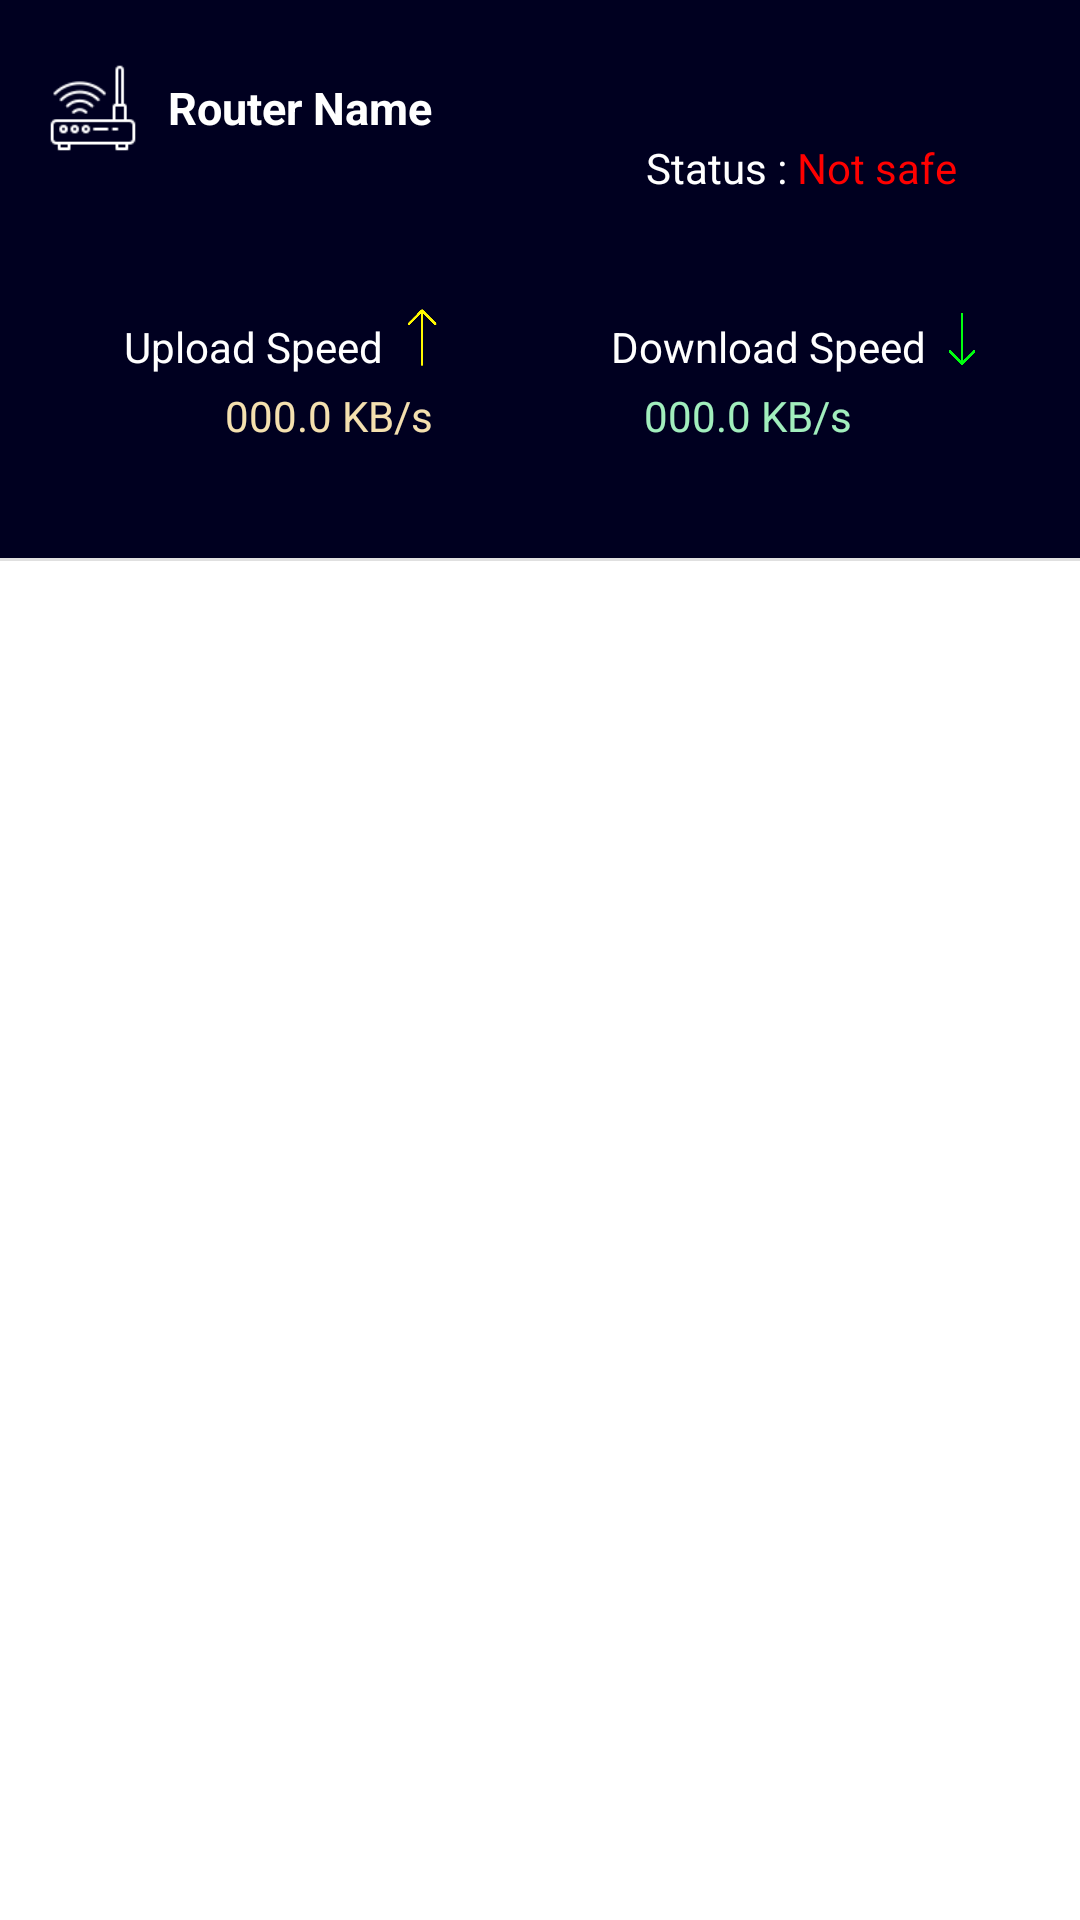

Icons on this 1080w x 1920h Android screen, each with the point to tap as (x=x, y=y):
down arrow: (x=962, y=339)
up arrow: (x=422, y=337)
